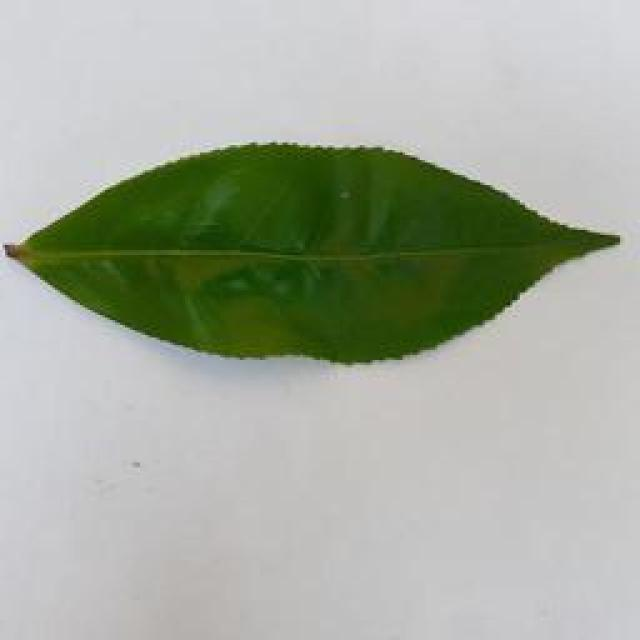Healthy: (6, 137, 640, 368)
